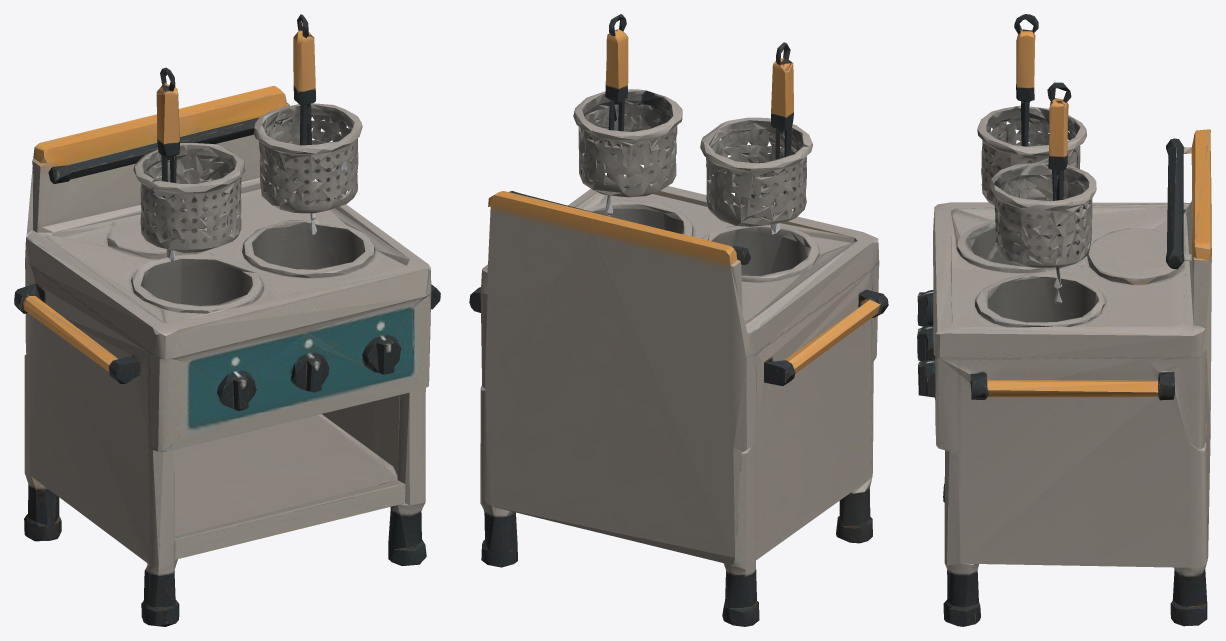
Rendered from rounded-restaurant-noodle-boiler-baskets-raised.glb.
3 renders of one model, left to right at view 1: azimuth 30°, elevation 25°; view 2: azimuth 150°, elevation 25°; view 3: azimuth 270°, elevation 25°, orthographic. The views are drawn at different scales.
Visible parts, largest first — view 1: Mesh_0; view 2: Mesh_0; view 3: Mesh_0.
Boxes of the visible parts, x1=… form: Mesh_0: x1=14, y1=14, x2=440, y2=626; Mesh_0: x1=469, y1=14, x2=888, y2=626; Mesh_0: x1=917, y1=14, x2=1211, y2=626.
Bounding box in the file's own units: 0.59 × 0.9 × 0.4701.
Materials: 1 (1 with a texture image).
